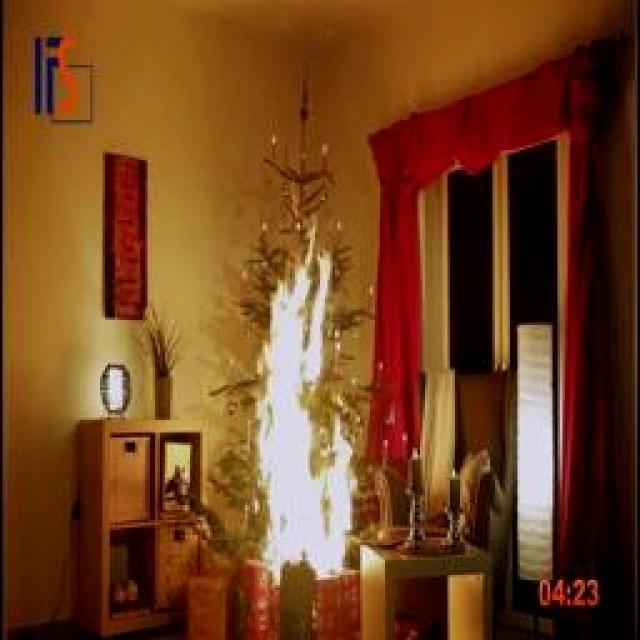fire: (232, 226, 380, 579)
